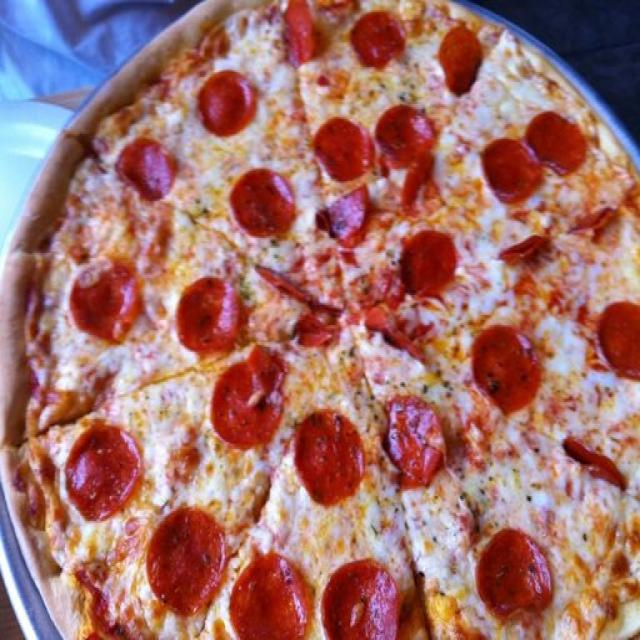Pepperoni: (257, 264, 344, 354), (148, 509, 224, 611), (232, 554, 312, 640), (68, 422, 136, 522), (482, 528, 551, 622), (321, 554, 396, 640), (294, 414, 362, 503), (210, 354, 280, 440), (386, 395, 442, 488), (177, 277, 246, 351), (74, 258, 136, 340), (476, 328, 534, 414), (305, 110, 373, 177), (530, 110, 592, 180), (349, 10, 415, 67), (117, 136, 177, 198), (236, 168, 294, 232), (398, 230, 458, 291), (594, 305, 640, 383), (199, 70, 255, 133), (562, 432, 626, 486), (482, 144, 534, 204), (381, 105, 436, 155), (275, 2, 318, 63), (316, 199, 366, 246), (444, 27, 479, 93), (576, 204, 620, 239), (500, 232, 541, 268), (406, 160, 434, 211)
Pizza: (0, 0, 640, 640)
